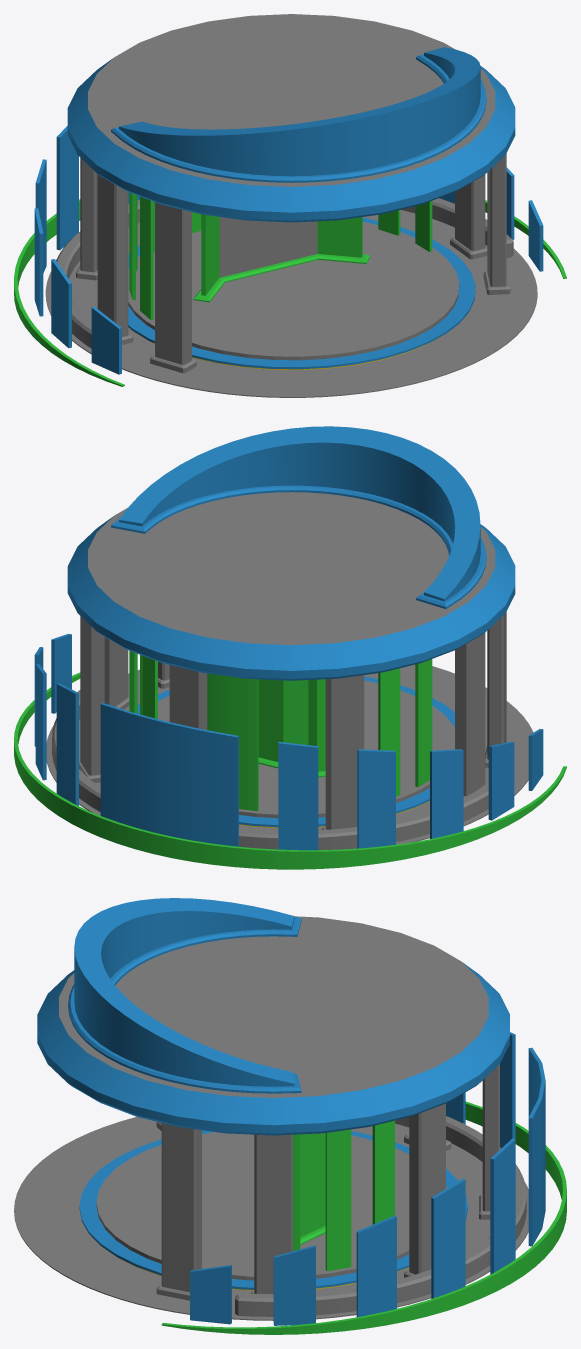
The model's file is Building_02.fbx.
3 views of the same model, one above another, from view 1: azimuth 30°, elevation 25°; view 2: azimuth 150°, elevation 25°; view 3: azimuth 270°, elevation 25° (orthographic). The views are drawn at different scales.
Visible parts, largest first — view 1: Box002; view 2: Box002; view 3: Box002.
Part boxes in pixels (box(x1,y1,x2,y2)): Box002: box(14, 14, 566, 397); Box002: box(14, 426, 566, 869); Box002: box(14, 898, 566, 1334).
Size of the model in its own units: 465 by 231 by 438.
